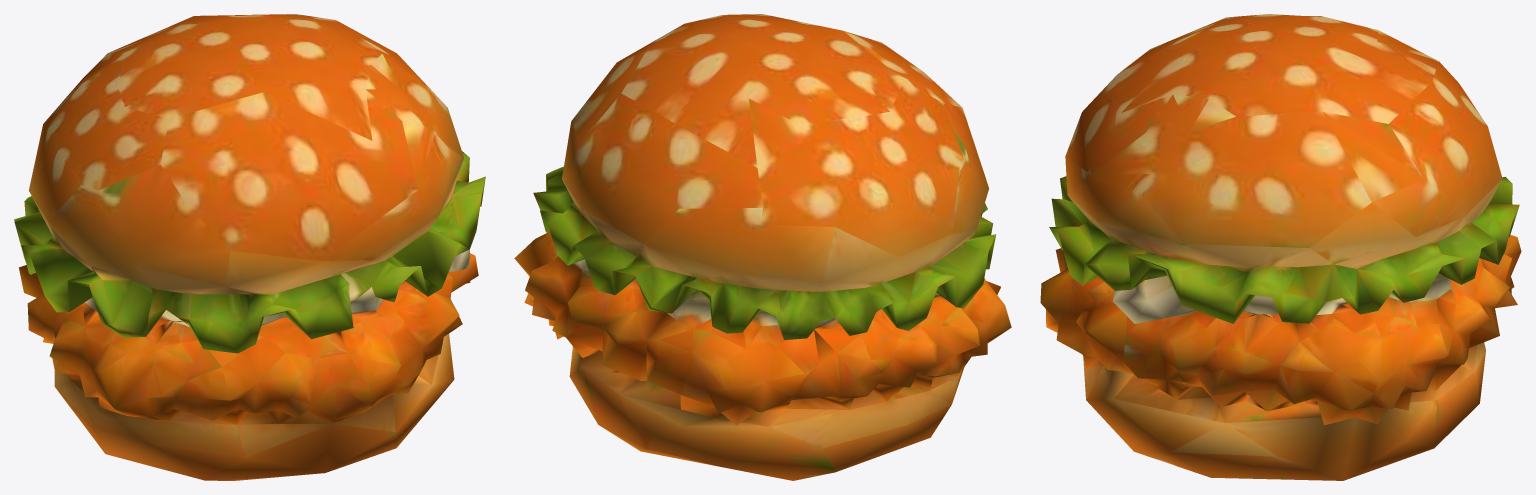
The picture shows the model from 3 angles, left to right: view 1: azimuth 30°, elevation 25°; view 2: azimuth 150°, elevation 25°; view 3: azimuth 270°, elevation 25°; orthographic projection. The views are drawn at different scales.
Parts seen in each view (by area): view 1: chicken-burger; view 2: chicken-burger; view 3: chicken-burger.
Part boxes in pixels (box(x1,y1,x2,y2)): chicken-burger: box(14, 14, 485, 480); chicken-burger: box(514, 14, 1011, 480); chicken-burger: box(1040, 14, 1521, 480).
Bounding box in the file's own units: 0.1382 × 0.1192 × 0.1359.
Materials: 1 (1 with a texture image).
